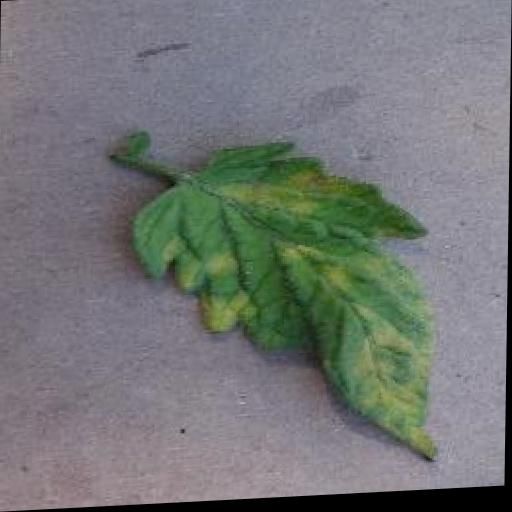Leaf Mold: (128, 135, 441, 478)
